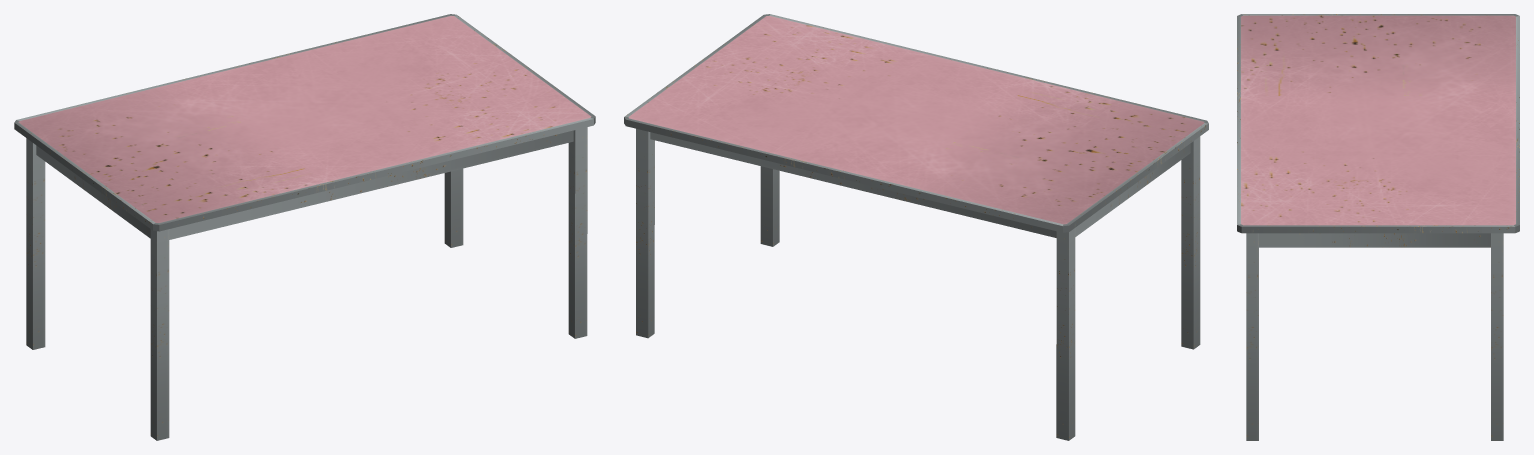
Rendered from table02a.fbx.
3 views of the same model, side by side, from view 1: azimuth 30°, elevation 25°; view 2: azimuth 150°, elevation 25°; view 3: azimuth 270°, elevation 25° (orthographic). The views are drawn at different scales.
Parts seen in each view (by area): view 1: table02a; view 2: table02a; view 3: table02a.
Part boxes in pixels (left/top/right/bottom): table02a: left=14, top=14, right=595, bottom=440; table02a: left=624, top=14, right=1208, bottom=440; table02a: left=1237, top=14, right=1519, bottom=440.
Bounding box in the file's own units: 186 × 88.2 × 104.
